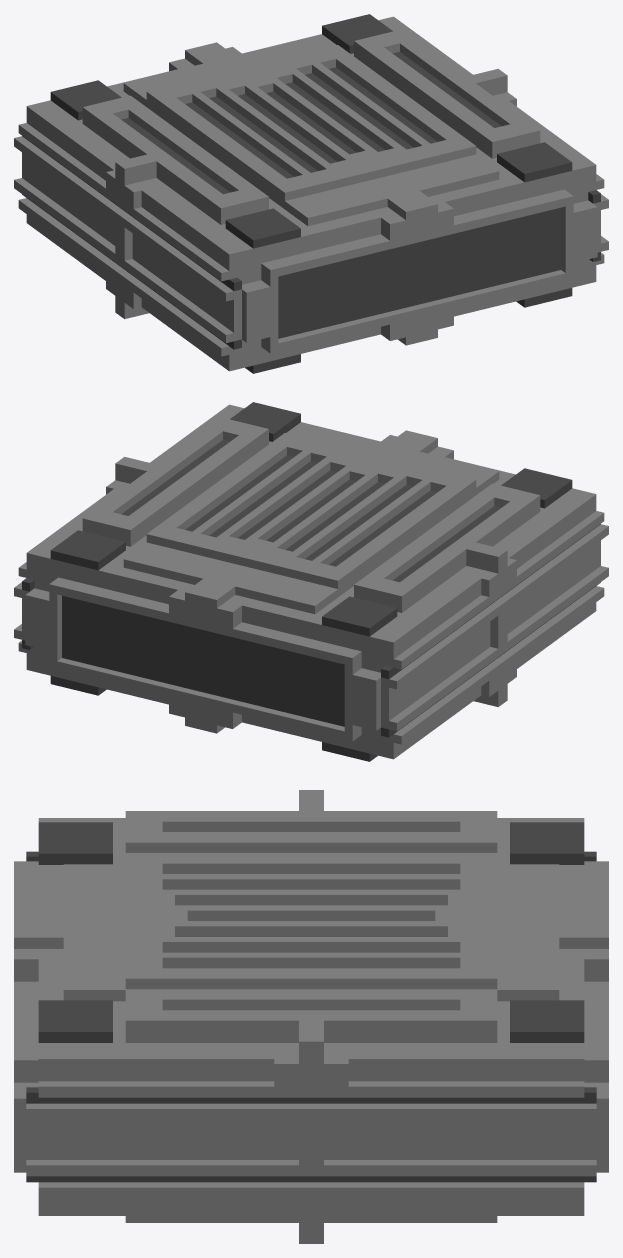
The model's file is alien_saucer2c.obj.
3 views of the same model, one above another, from view 1: azimuth 30°, elevation 25°; view 2: azimuth 150°, elevation 25°; view 3: azimuth 270°, elevation 25° (orthographic). The views are drawn at different scales.
Size of the model in its own units: 48 by 18 by 48.
